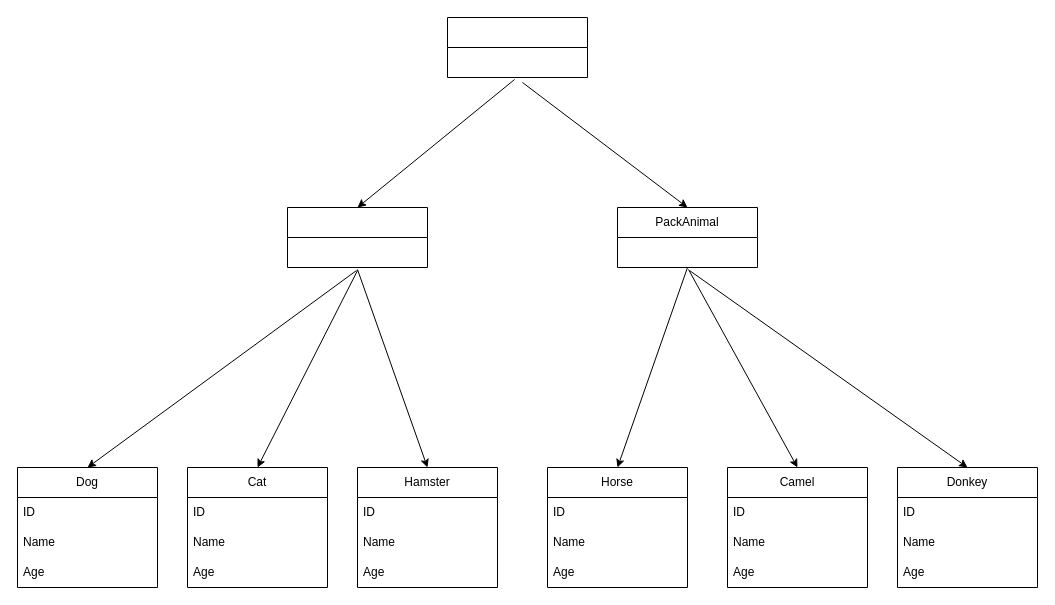
Image size: 1055x605. Some labels were removed from this diagram. Here are the shapes that lost their labels. From the top down, the box of each, then its label:
(446, 16, 588, 78): Animal
(286, 206, 428, 268): Pet
